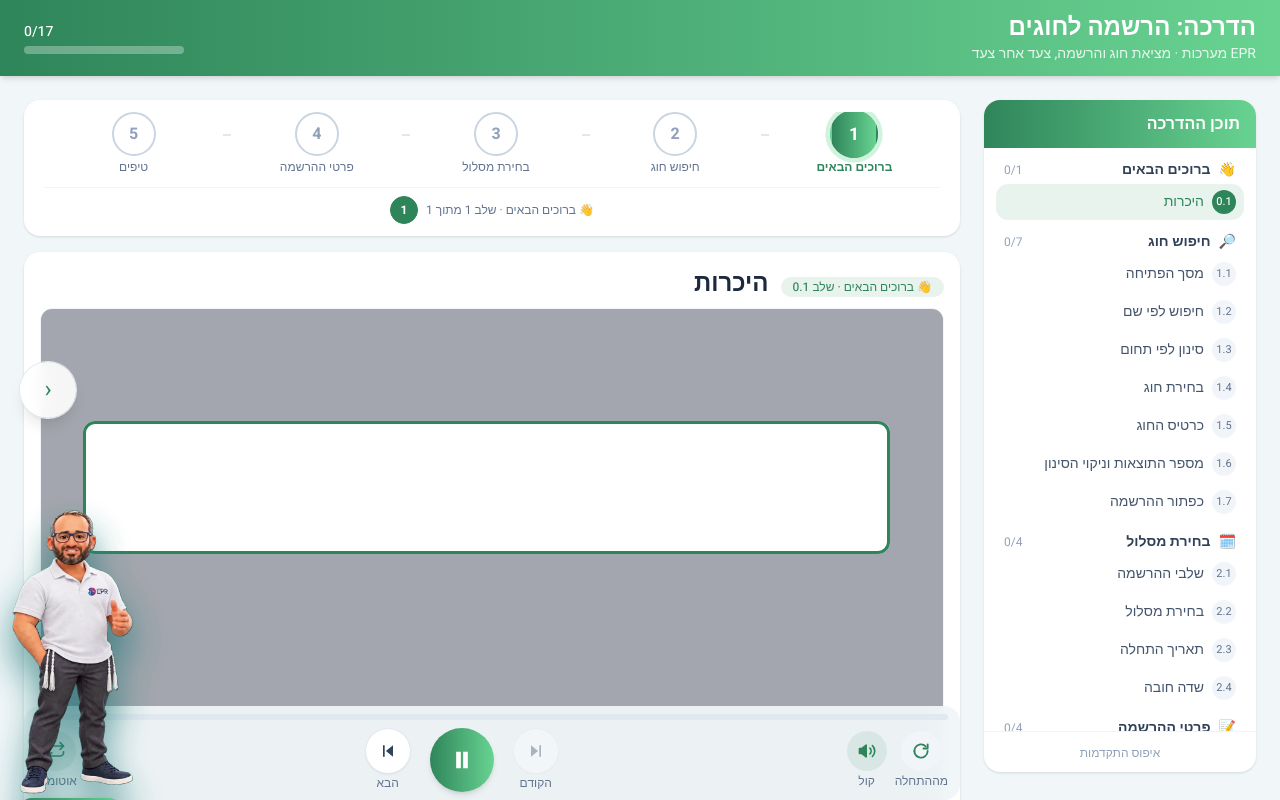
App › resets progress from the nav footer after confirmation
Click the button named "הבא". click: point(388, 751)
box: [366,729,410,773]
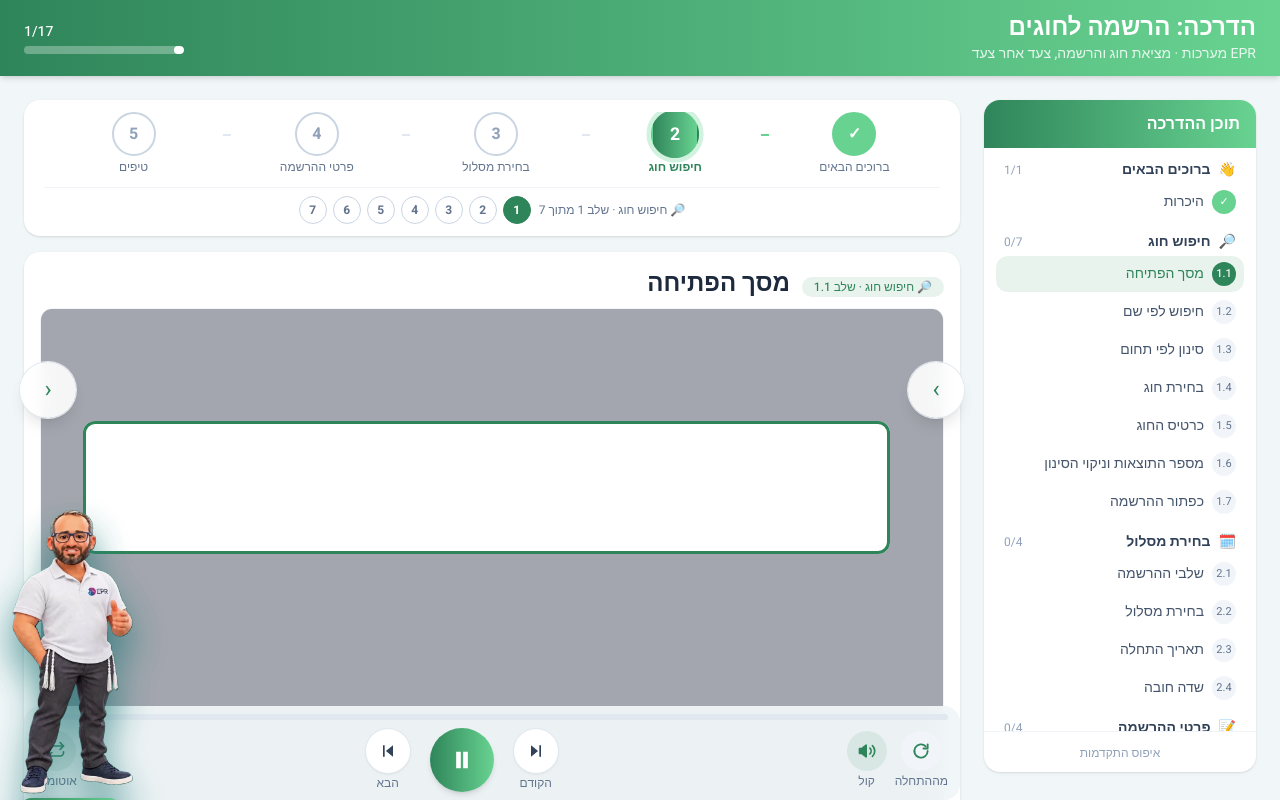
Click the button "איפוס התקדמות". click: point(1120, 753)
box: [1080,745,1160,761]
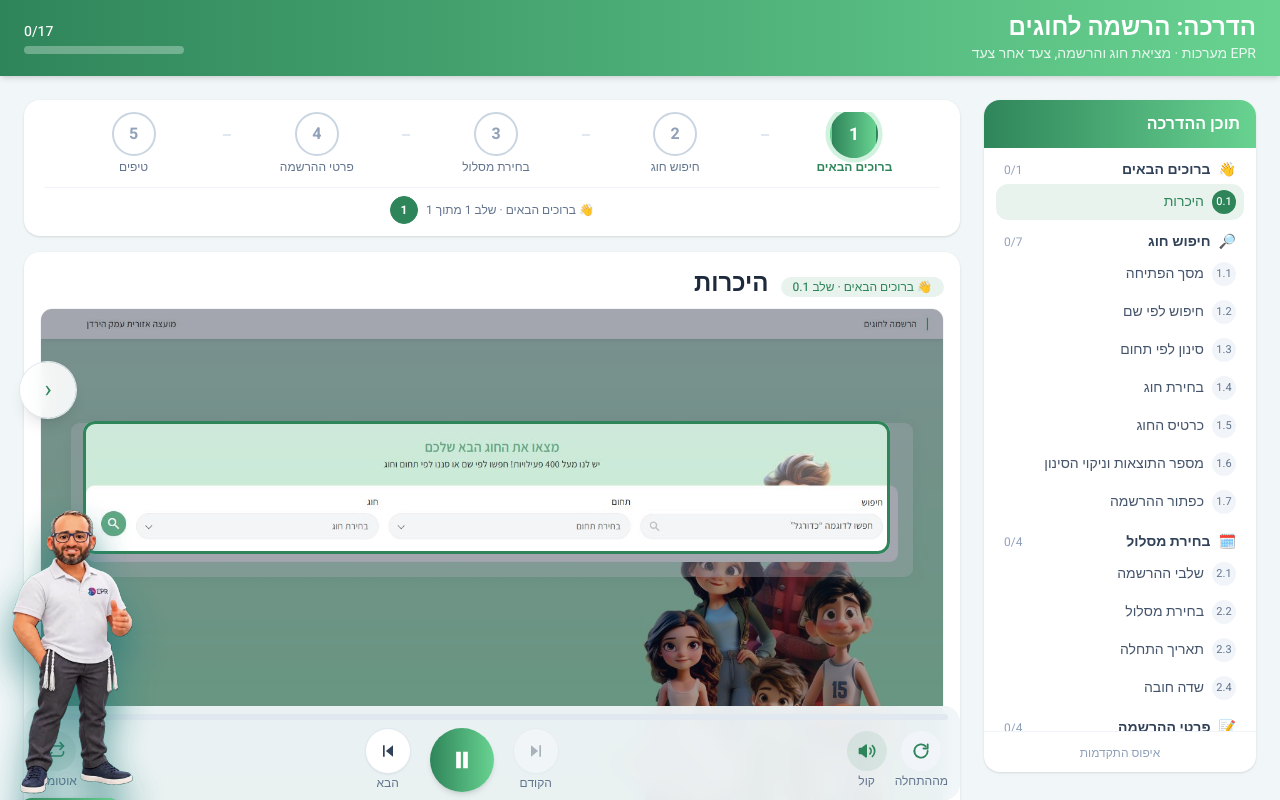
Now the heading "היכרות" is shown, box [694,268,769,300]
